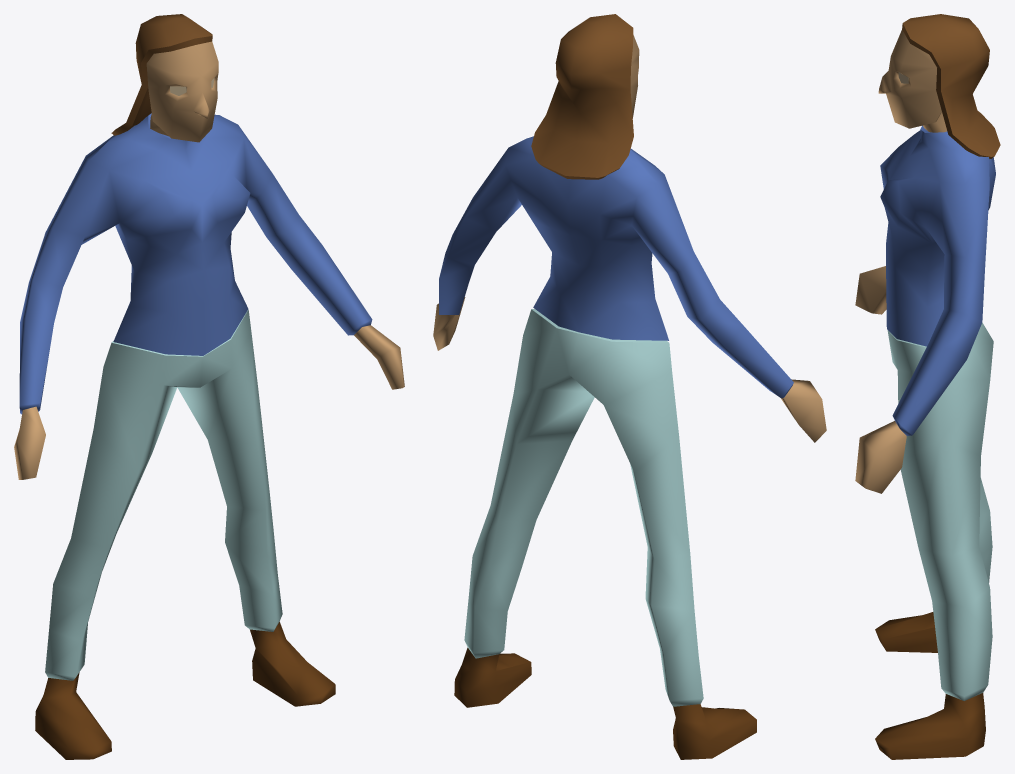
The model's file is NPC02.fbx.
The picture shows the model from 3 angles, left to right: view 1: azimuth 30°, elevation 25°; view 2: azimuth 150°, elevation 25°; view 3: azimuth 270°, elevation 25°; orthographic projection. The views are drawn at different scales.
Parts seen in each view (by area): view 1: NPC02_Base; view 2: NPC02_Base; view 3: NPC02_Base.
Part boxes in pixels (x1,y1,x2,y2): NPC02_Base: (14, 14, 404, 759); NPC02_Base: (433, 14, 826, 759); NPC02_Base: (855, 14, 1000, 759).
Size of the model in its own units: 98.41 by 170 by 32.94.
